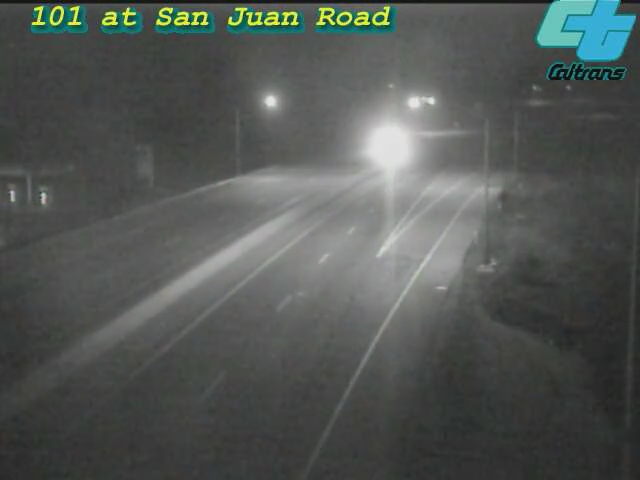vehicle: (358, 122, 408, 172)
